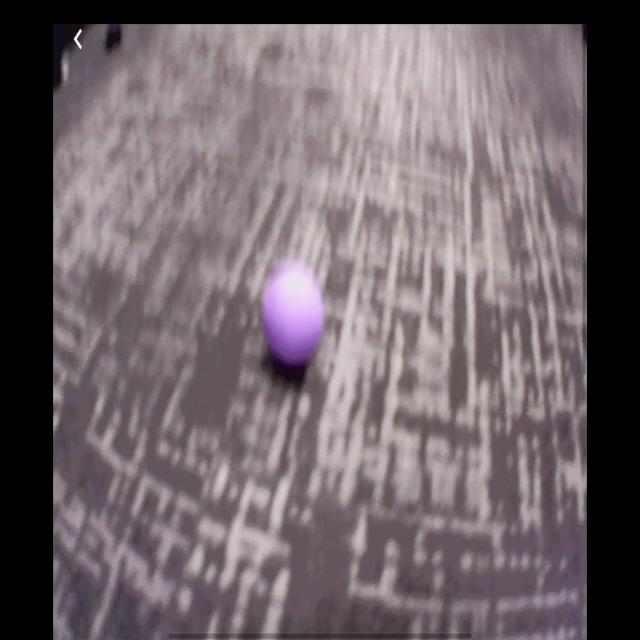ball: (262, 258, 327, 371)
